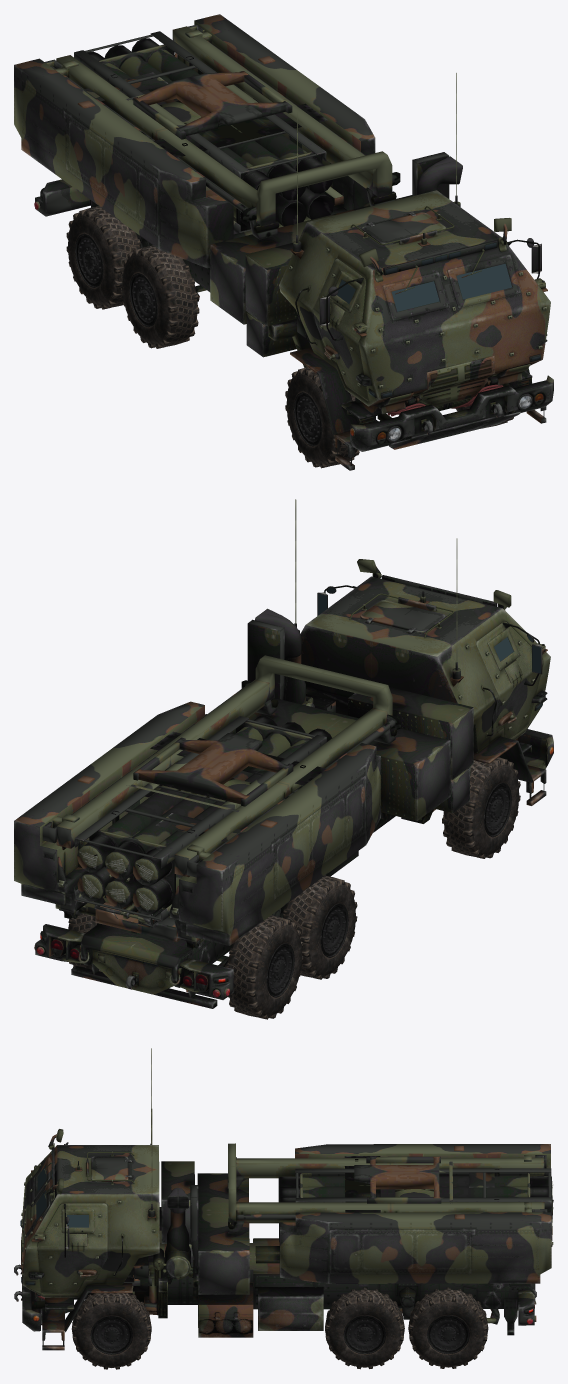
The model's file is ATACMS.obj.
3 views of the same model, one above another, from view 1: azimuth 30°, elevation 25°; view 2: azimuth 150°, elevation 25°; view 3: azimuth 270°, elevation 25° (orthographic). The views are drawn at different scales.
Visible parts, largest first — view 1: Vehicle_Part_036, Vehicle_Part_035, Vehicle_Part_051, Vehicle_Part_044, Vehicle_Part_052, Vehicle_Part_046, Vehicle_Part_053, Vehicle_Part_014, Vehicle_Part_045; view 2: Vehicle_Part_036, Vehicle_Part_035, Vehicle_Part_052, Vehicle_Part_053, Vehicle_Part_051, Vehicle_Part_046, Vehicle_Part_045, Vehicle_Part_044; view 3: Vehicle_Part_036, Vehicle_Part_035, Vehicle_Part_047, Vehicle_Part_055, Vehicle_Part_054, Vehicle_Part_056, Vehicle_Part_045, Vehicle_Part_044, Vehicle_Part_041.
Boxes of the visible parts, x1,y1,x2,y2 form: Vehicle_Part_036: [14, 14, 400, 268]; Vehicle_Part_035: [34, 152, 550, 470]; Vehicle_Part_051: [120, 245, 199, 348]; Vehicle_Part_044: [350, 375, 553, 451]; Vehicle_Part_052: [66, 206, 140, 309]; Vehicle_Part_046: [313, 258, 368, 401]; Vehicle_Part_053: [285, 367, 359, 468]; Vehicle_Part_014: [391, 263, 512, 311]; Vehicle_Part_045: [362, 212, 445, 245]; Vehicle_Part_036: [14, 655, 400, 948]; Vehicle_Part_035: [34, 559, 550, 1008]; Vehicle_Part_052: [226, 915, 303, 1019]; Vehicle_Part_053: [442, 757, 520, 858]; Vehicle_Part_051: [282, 875, 357, 979]; Vehicle_Part_046: [476, 621, 545, 738]; Vehicle_Part_045: [360, 600, 445, 633]; Vehicle_Part_044: [518, 729, 553, 769]; Vehicle_Part_036: [227, 1143, 553, 1283]; Vehicle_Part_035: [21, 1129, 536, 1350]; Vehicle_Part_047: [34, 1203, 107, 1293]; Vehicle_Part_055: [408, 1287, 488, 1368]; Vehicle_Part_054: [325, 1287, 404, 1369]; Vehicle_Part_056: [71, 1293, 151, 1369]; Vehicle_Part_045: [91, 1156, 132, 1181]; Vehicle_Part_044: [14, 1264, 44, 1331]; Vehicle_Part_041: [398, 1287, 415, 1319].
Size of the model in its own units: 1.82 by 2.6 by 4.95.
Materials: 7 (7 with a texture image).
